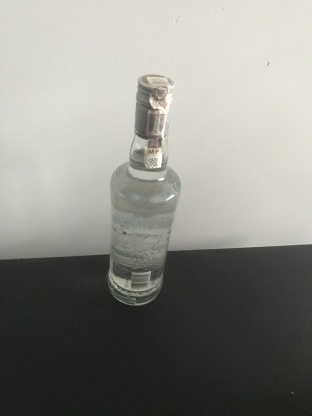nakretka: (133, 72, 175, 140)
